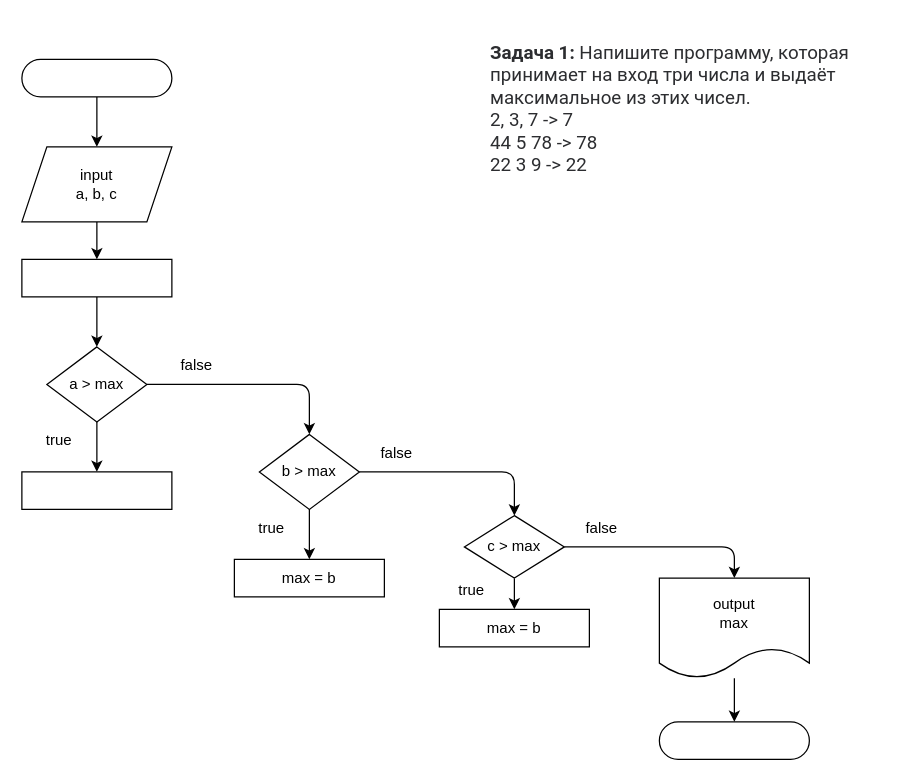
Image size: 919x781. Some labels were removed from this diagram. Here are the shapes that lost their labels. From the top down, the centre of each, then its label:
point (96, 77): Start
point (96, 277): max = 0
point (96, 490): max = a
point (733, 740): end
